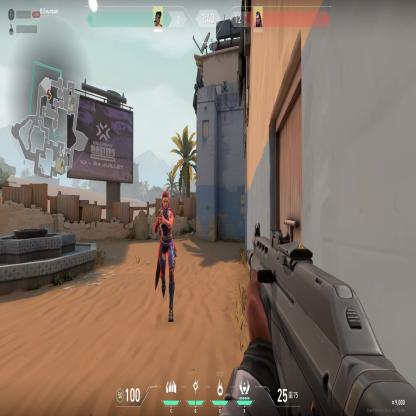enemy: (153, 190, 178, 324)
